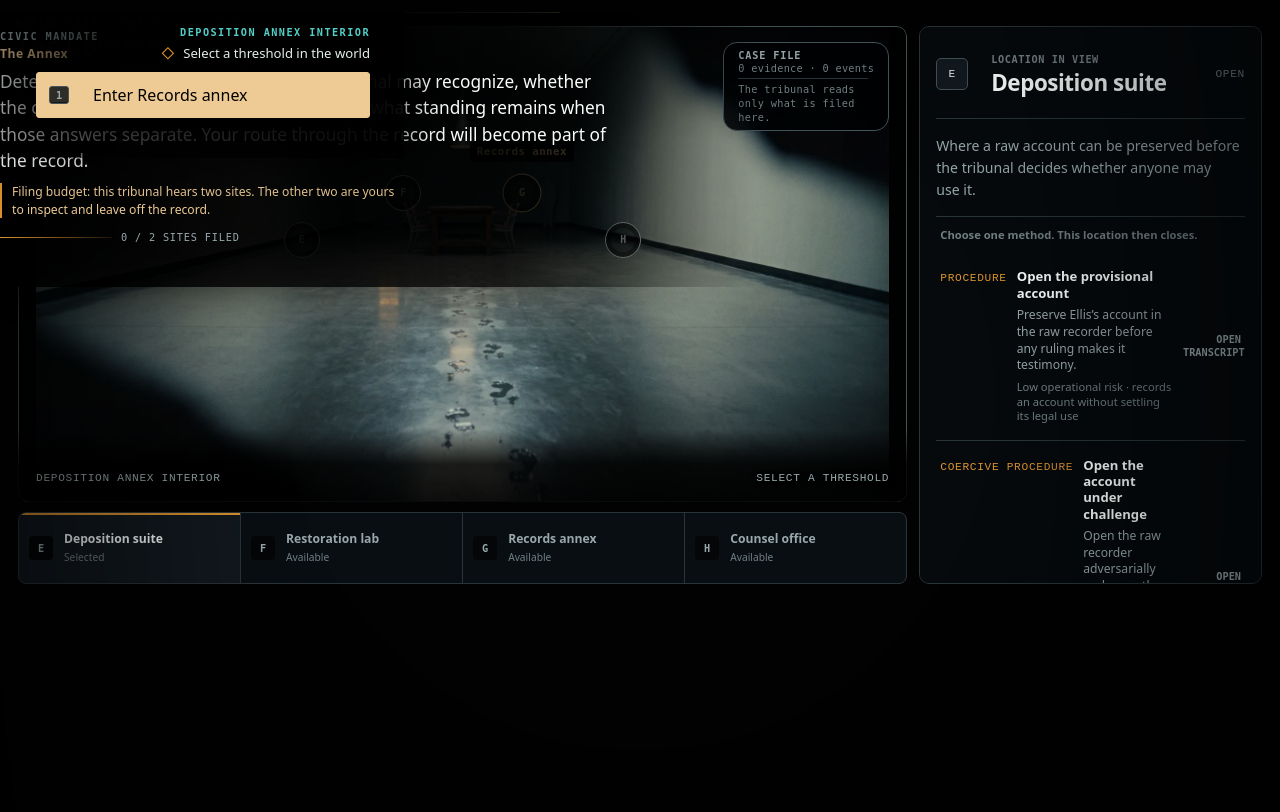
Scenario: Case 81 spatial deposition route › recommends one opening-approach portal without selecting or moving the camera
Expected: the button with class "annex-world-portal" shows "Records annex", x1=498 y1=169 x2=546 y2=217
Expected: the element that starts with "Active case" shows "Suggested:", x1=15 y1=87 x2=350 y2=105
Click the button "1 Enter Records annex" at (203, 95), box x1=36 y1=72 x2=370 y2=118
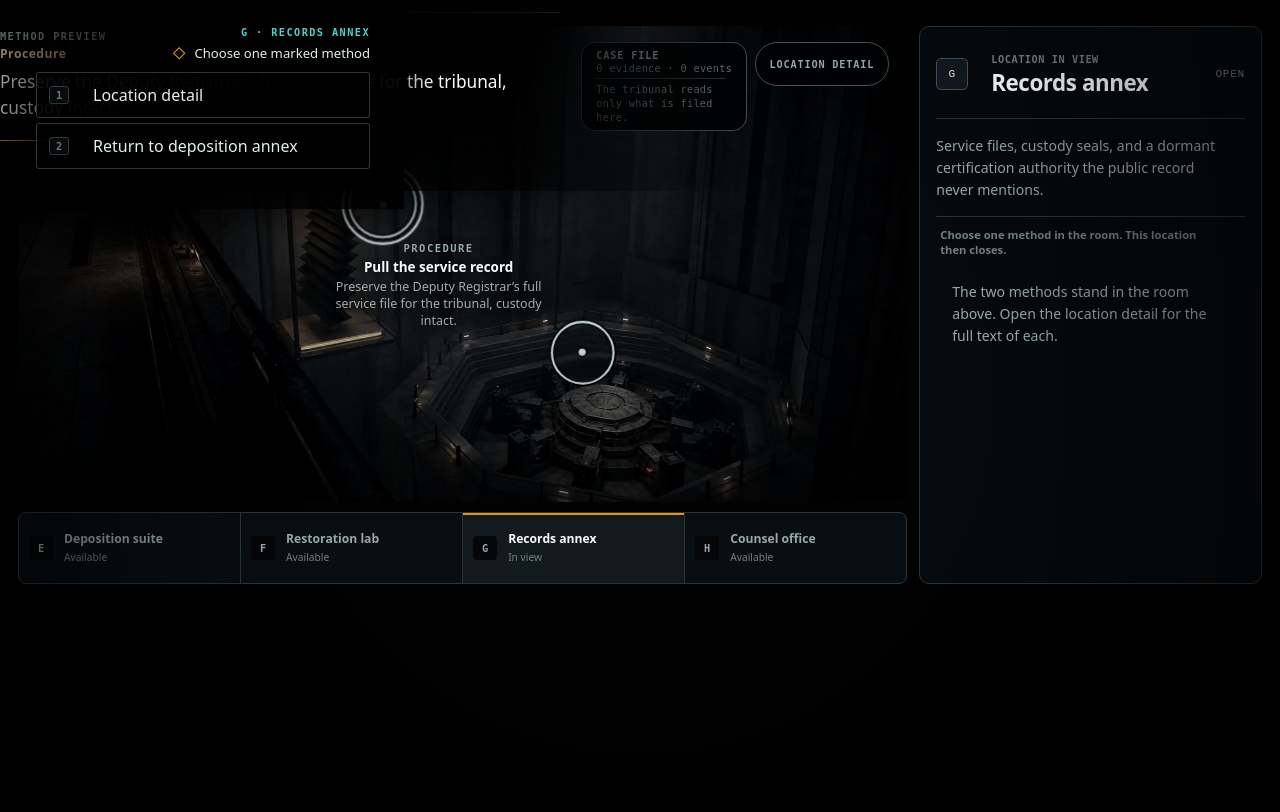
Expected: the element with class "site-closeup-stage" is shown, x1=18 y1=26 x2=907 y2=502
Expected: the text with class "hud-location" shows "Records annex", x1=241 y1=26 x2=370 y2=38
